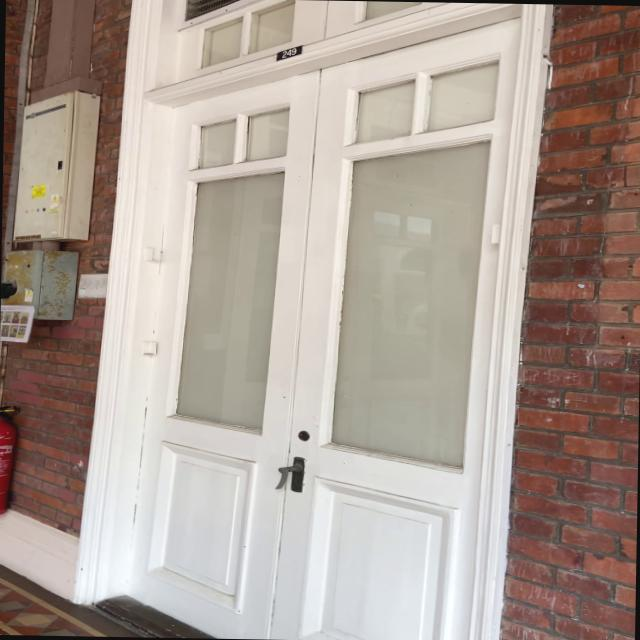room249: (266, 44, 304, 64)
